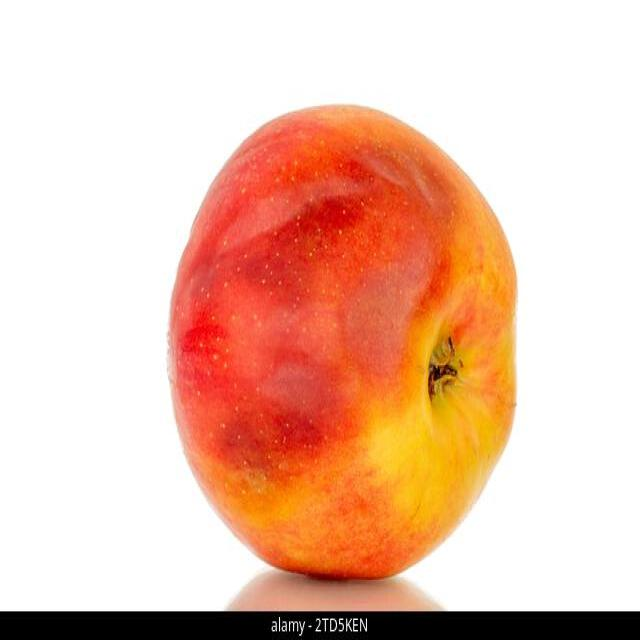overripe: (162, 95, 518, 576)
